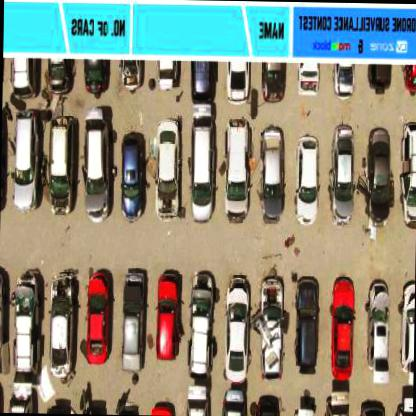car: (251, 276, 284, 384), (190, 93, 216, 225), (82, 107, 110, 219), (48, 266, 76, 376), (189, 271, 217, 381), (12, 270, 40, 380), (328, 274, 356, 380), (223, 274, 249, 388), (223, 116, 249, 224), (121, 266, 147, 372), (364, 125, 392, 223), (84, 271, 112, 364), (328, 124, 354, 223), (47, 115, 72, 216), (258, 127, 284, 223), (293, 274, 319, 370), (12, 111, 36, 211), (366, 281, 389, 381), (155, 272, 181, 360), (296, 136, 320, 226), (396, 120, 415, 231), (119, 132, 142, 221), (0, 265, 13, 380), (262, 65, 282, 103), (228, 64, 246, 104), (334, 64, 354, 98), (192, 64, 212, 97)
